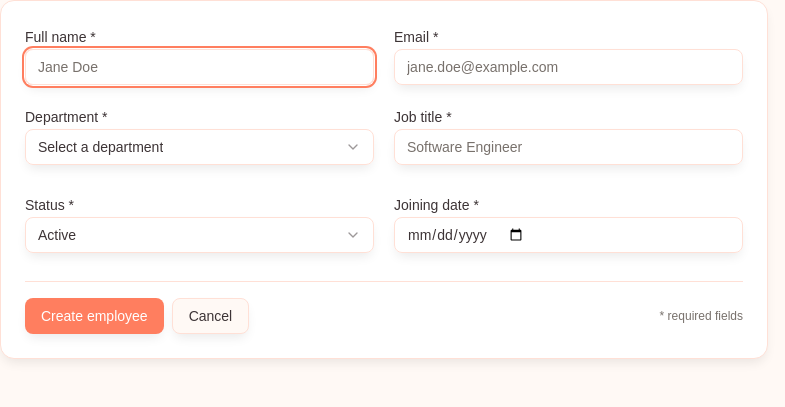
Scenario: EmployeeForm › shows a validation error for an invalid email on blur
The width and height of the screenshot is (785, 407).
Type "not-an-email" into the field labelled "Email *" at (568, 67), box [394, 49, 743, 85]
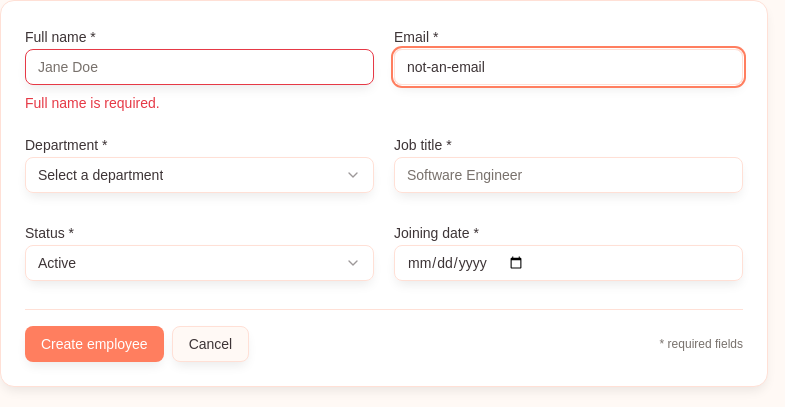
Press Tab
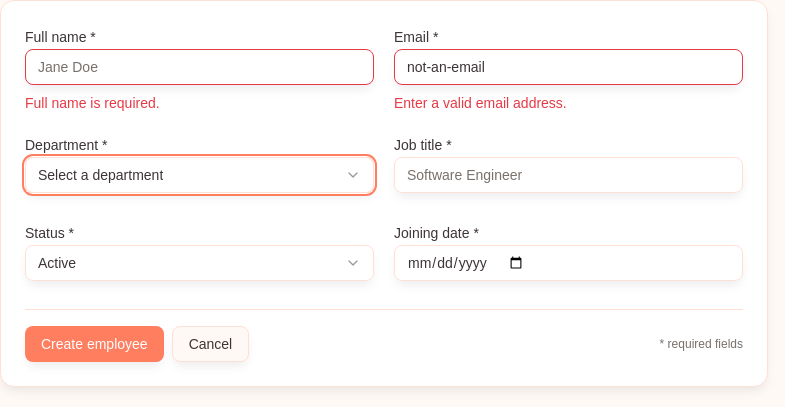
Expected: the text "Enter a valid email address." is shown, [394, 95, 567, 111]
